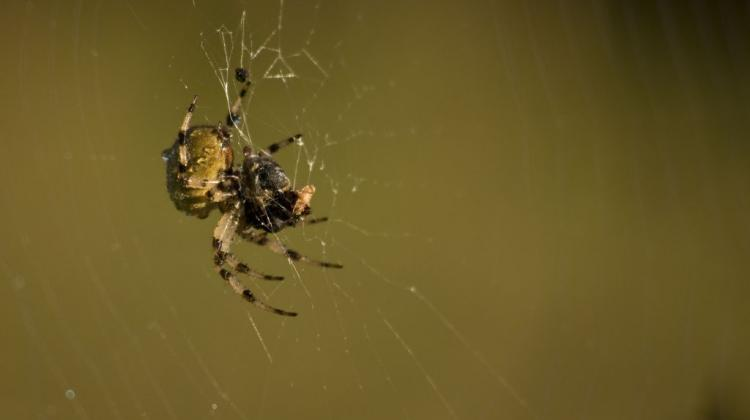spider: (129, 51, 349, 335)
